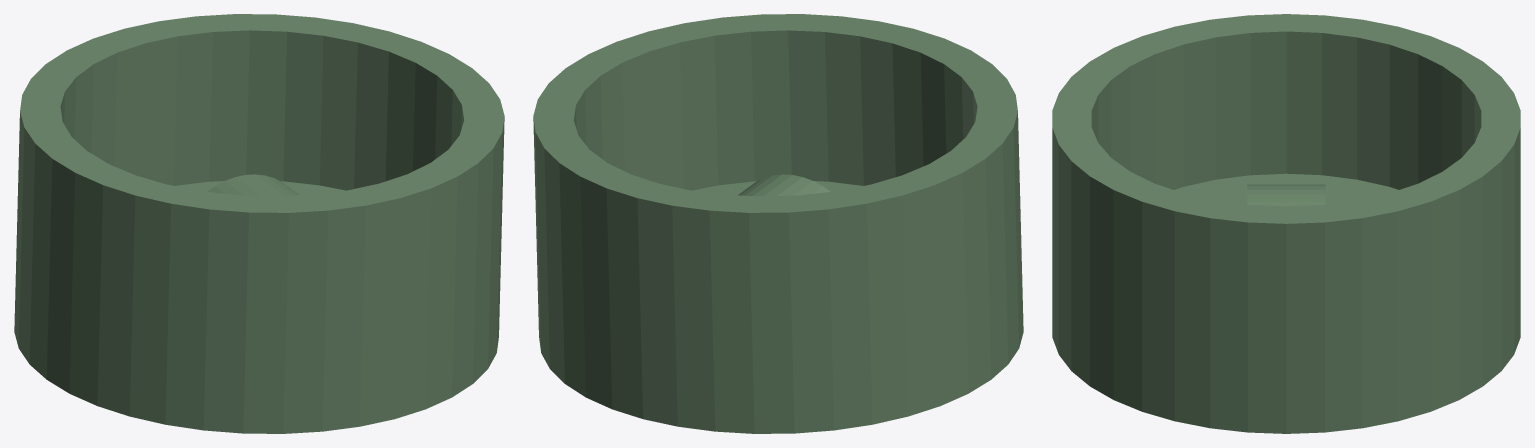
File: right_steering.dae
3 renders of one model, left to right at view 1: azimuth 30°, elevation 25°; view 2: azimuth 150°, elevation 25°; view 3: azimuth 270°, elevation 25°, orthographic. The views are drawn at different scales.
Visible parts, largest first — view 1: right_steering; view 2: right_steering; view 3: right_steering.
Boxes of the visible parts, x1,y1,x2,y2 form: right_steering: (14,14,504,433); right_steering: (533,14,1023,433); right_steering: (1052,14,1520,433).
Bounding box in the file's own units: 0.1544 × 0.1519 × 0.0803.
